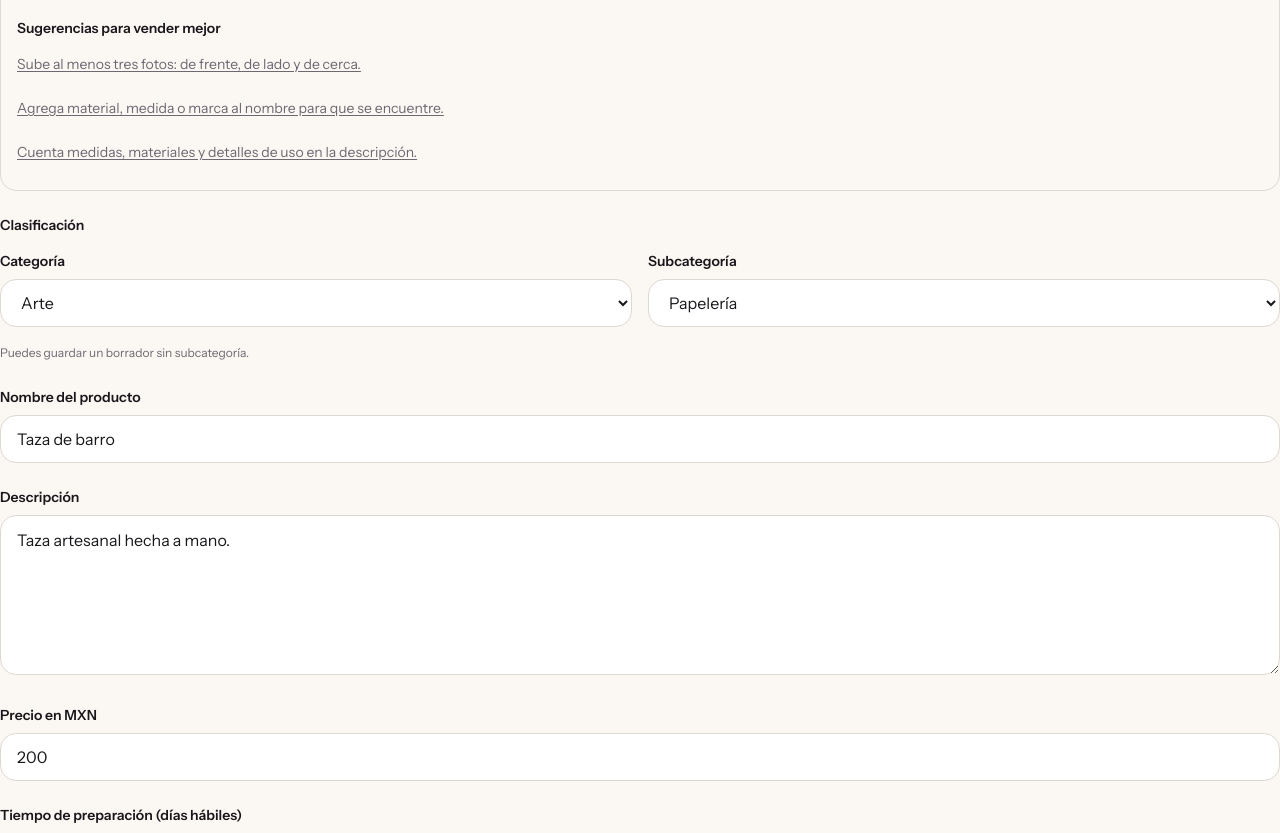
product submission recovery › keeps current classification and other fields after draft save
Select "Manualidades" in the dropdown labelled "Subcategoría" at (964, 303), box [648,279,1279,327]
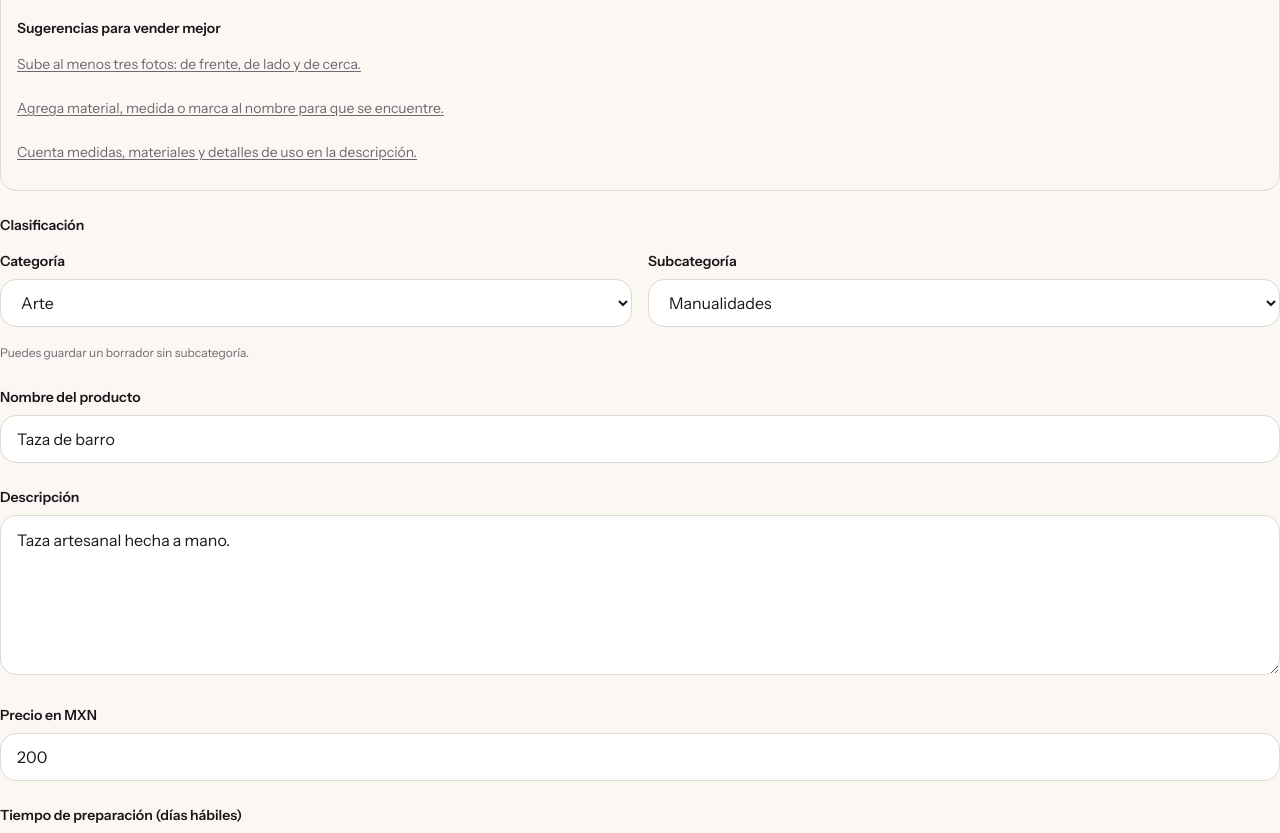
Type "Nombre nuevo" into the field labelled "Nombre del producto" at (640, 439), box [0,415,1279,463]
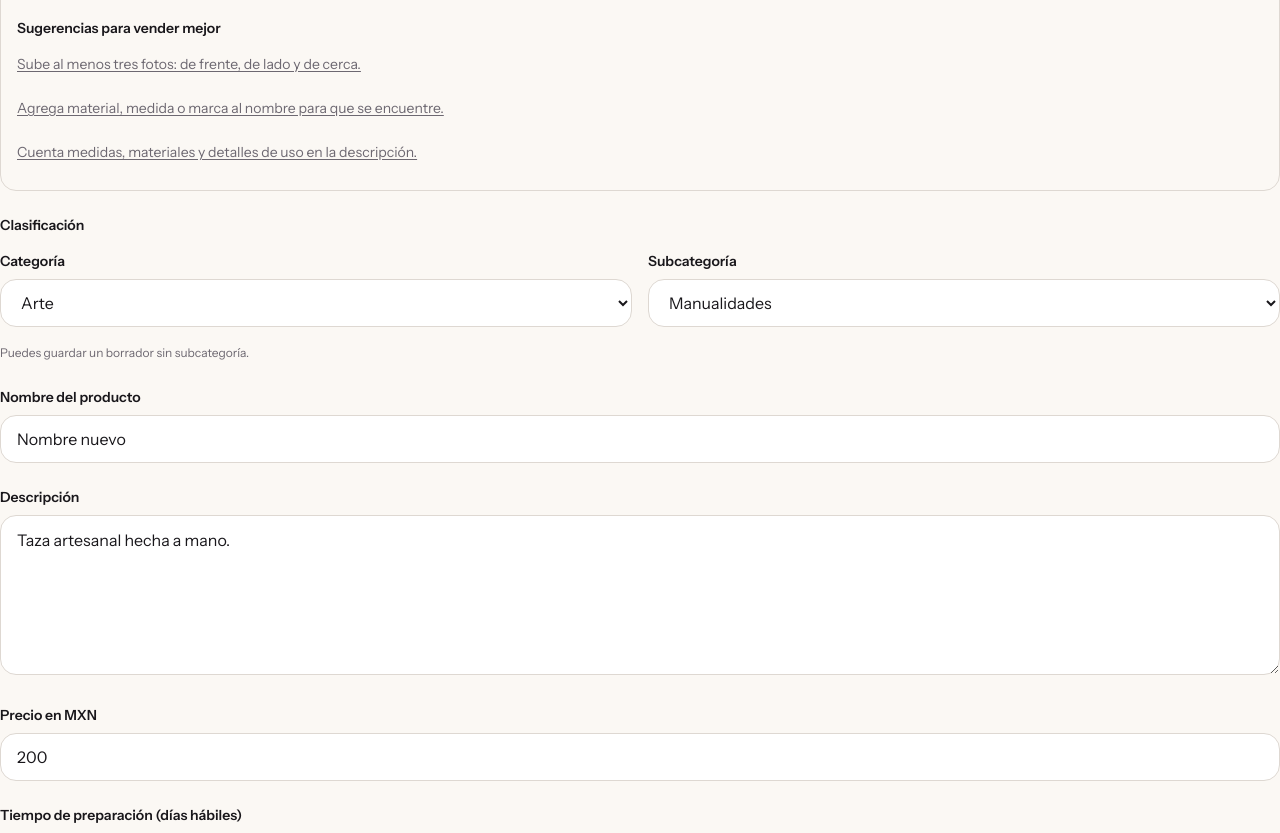
Replace the text in the text box labelled "Descripción" with "Descripción nueva que debe conservarse." at (640, 595), box [0,515,1279,675]
(page scrolled)
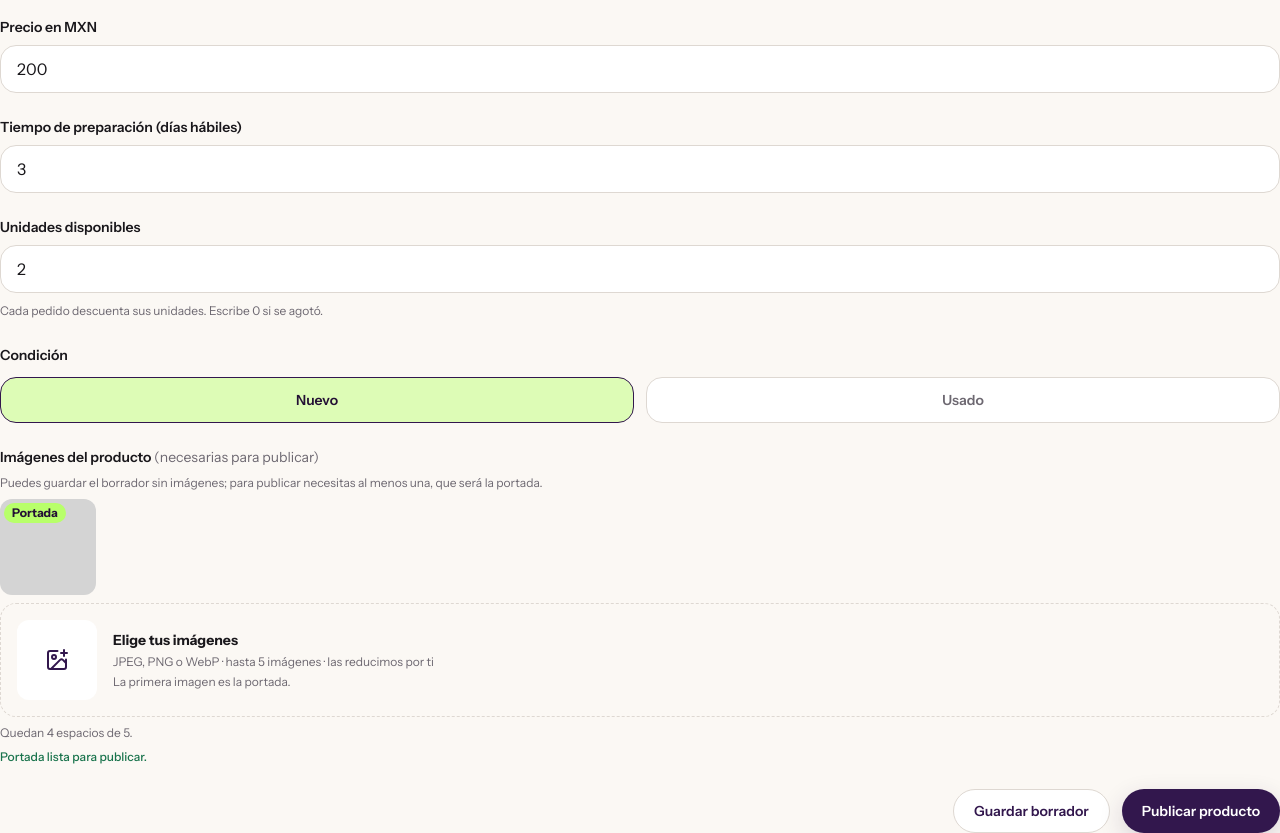
Click the button "Guardar borrador" at (1031, 811), box [953,789,1110,832]
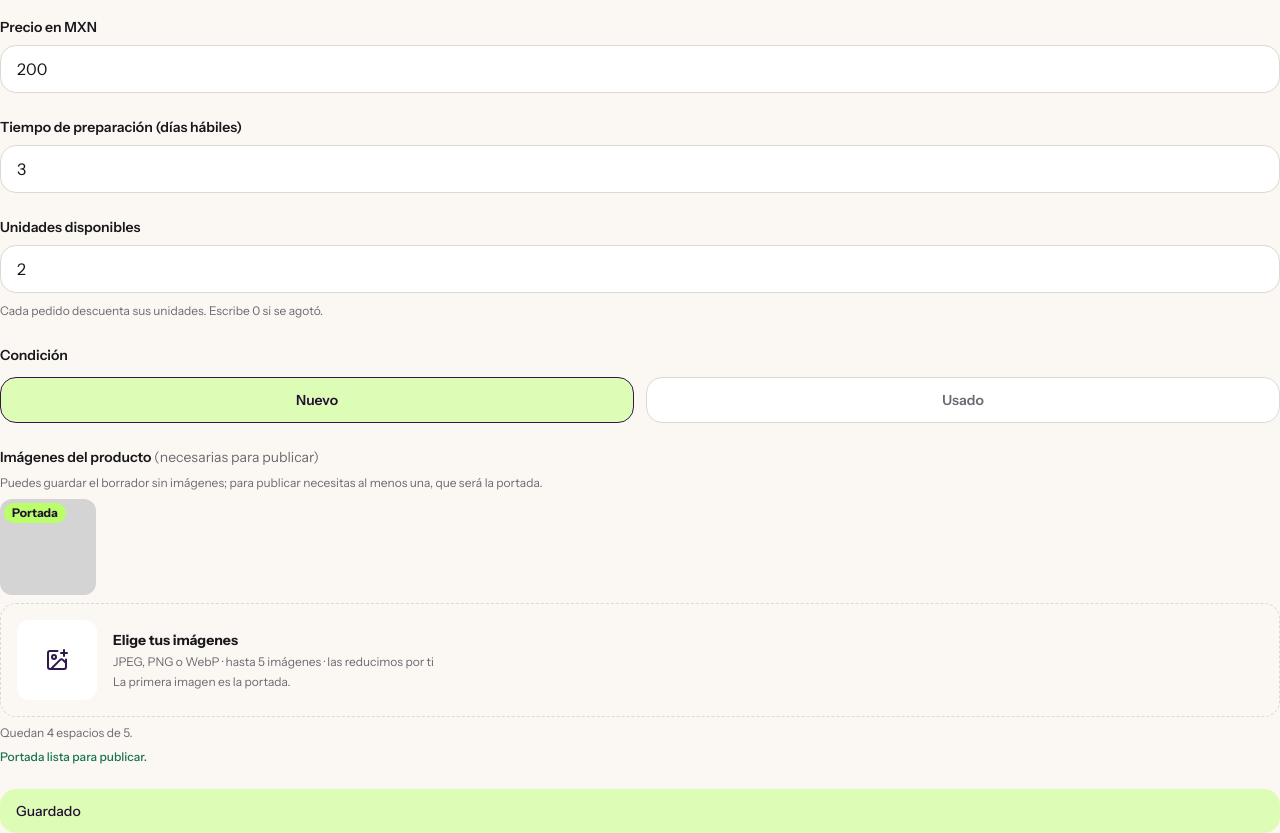
Expected: the text "Guardado" is shown, [0,789,1279,832]
